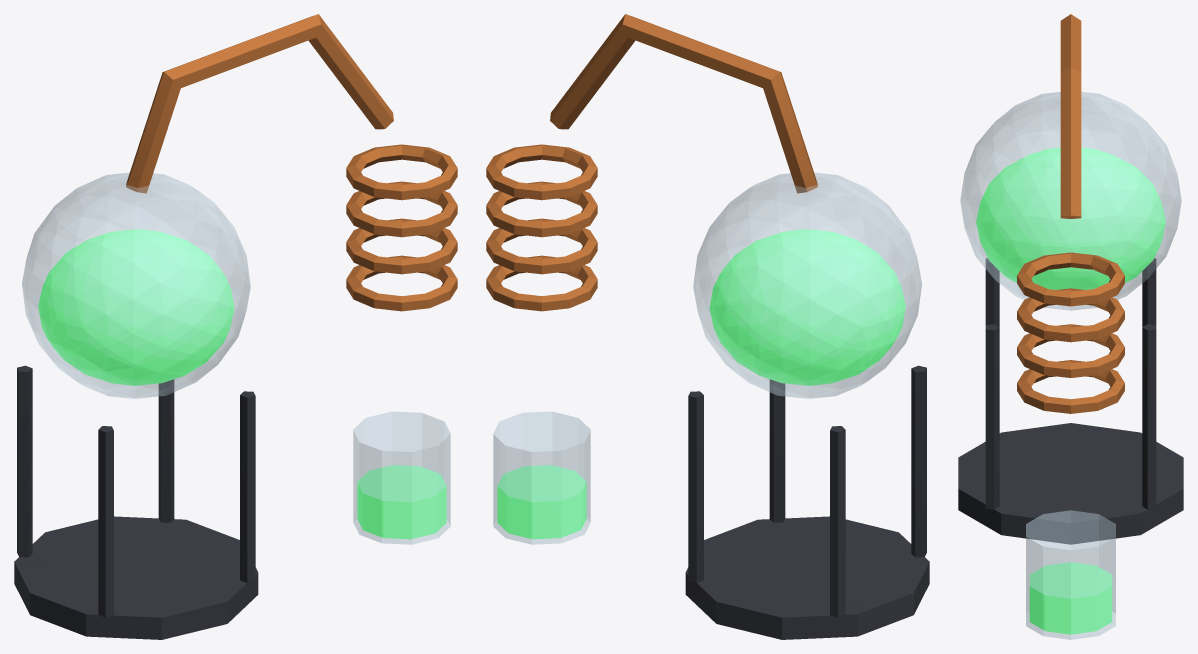
Rendered from distiller.glb.
3 views of the same model, side by side, from view 1: azimuth 30°, elevation 25°; view 2: azimuth 150°, elevation 25°; view 3: azimuth 270°, elevation 25° (orthographic). The views are drawn at different scales.
Visible parts, largest first — view 1: distiller; view 2: distiller; view 3: distiller.
Part boxes in pixels (bbox=[...]): distiller: bbox=[14, 14, 457, 639]; distiller: bbox=[486, 14, 929, 639]; distiller: bbox=[958, 14, 1183, 639].
Size of the model in its own units: 1.19 by 1.43 by 0.5706.
